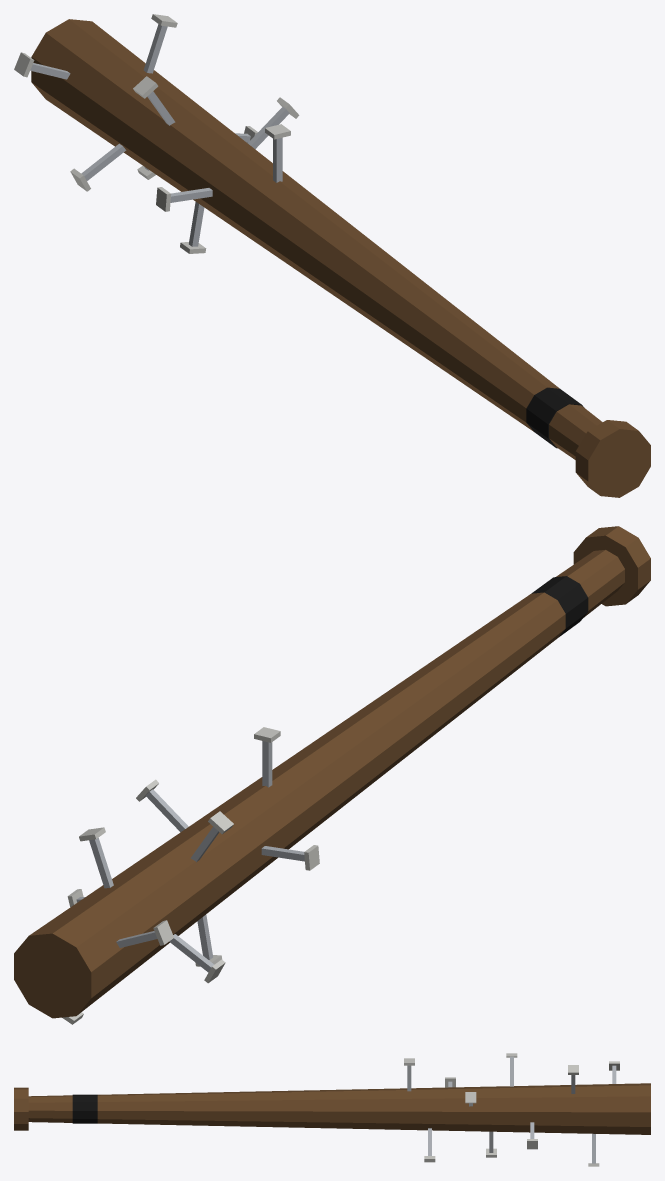
File: bat_nails_w0.glb
3 views of the same model, one above another, from view 1: azimuth 30°, elevation 25°; view 2: azimuth 150°, elevation 25°; view 3: azimuth 270°, elevation 25° (orthographic). The views are drawn at different scales.
Parts seen in each view (by area): view 1: bat_nails_w0; view 2: bat_nails_w0; view 3: bat_nails_w0.
Part boxes in pixels (box(x1,y1,x2,y2)): bat_nails_w0: box(14, 14, 650, 497); bat_nails_w0: box(14, 526, 650, 1024); bat_nails_w0: box(14, 1053, 650, 1166).
Bounding box in the file's own units: 0.1506 × 0.1512 × 0.87.
